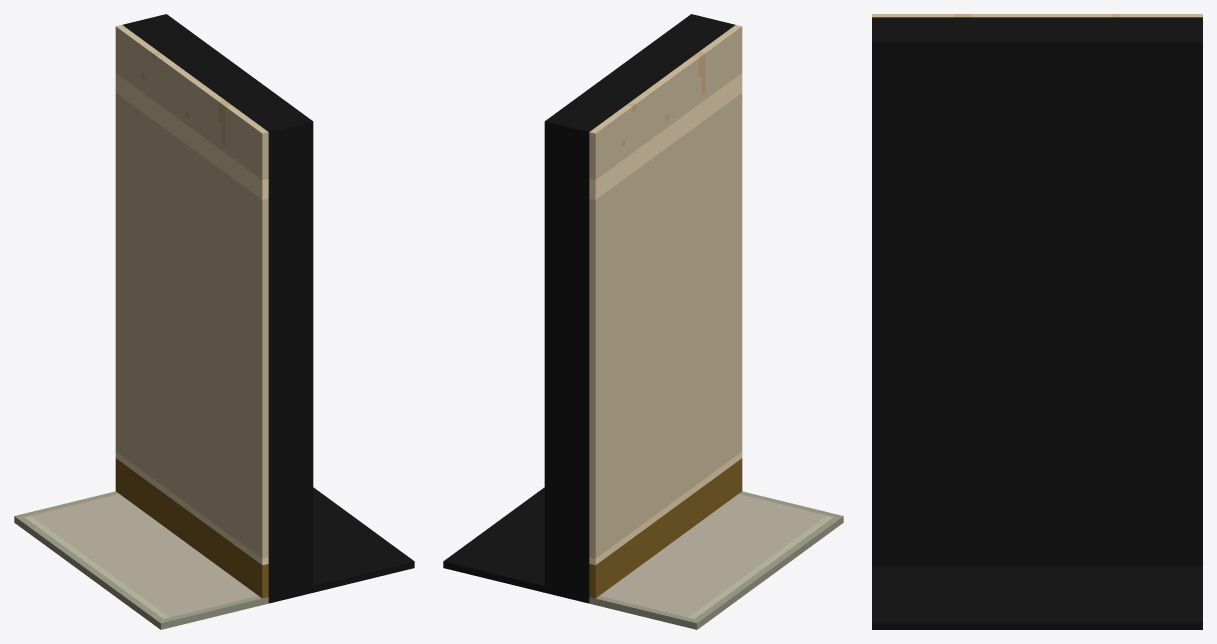
Rendered from Parede_Lisa_1.obj.
3 views of the same model, side by side, from view 1: azimuth 30°, elevation 25°; view 2: azimuth 150°, elevation 25°; view 3: azimuth 270°, elevation 25° (orthographic). The views are drawn at different scales.
Bounding box in the file's own units: 40 × 71 × 40.
1 material, 1 textured.
